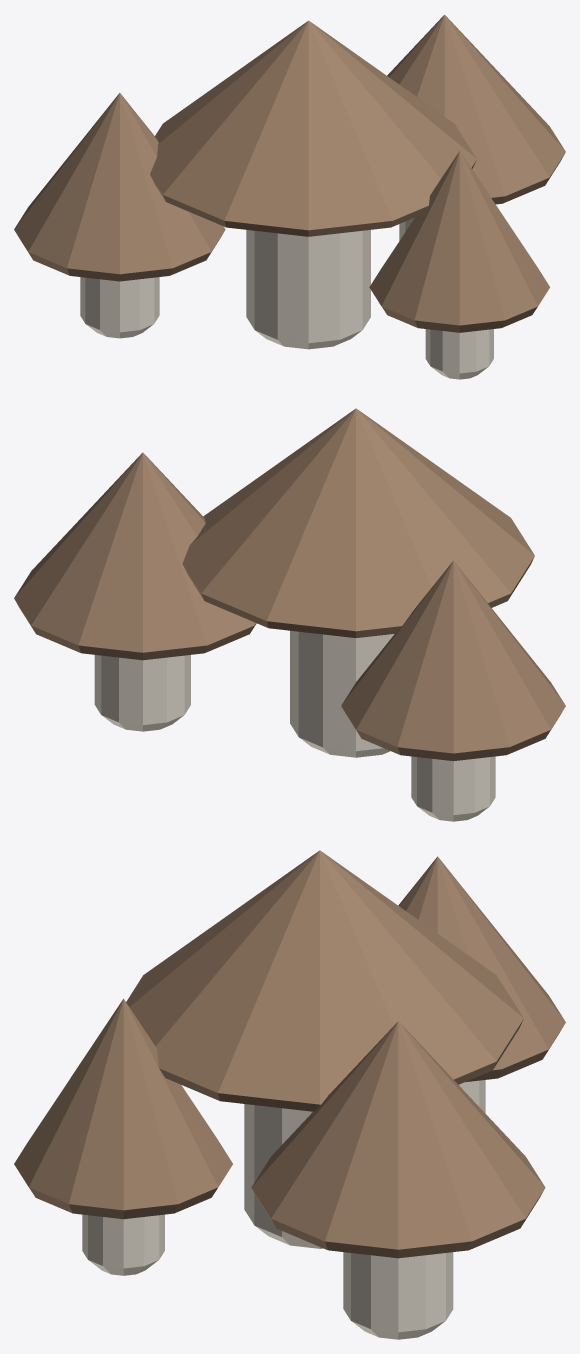
File: SM_Mushroom_02.fbx
The picture shows the model from 3 angles, top to bottom: view 1: azimuth 30°, elevation 25°; view 2: azimuth 150°, elevation 25°; view 3: azimuth 270°, elevation 25°; orthographic projection. The views are drawn at different scales.
Parts seen in each view (by area): view 1: Mushroom_02; view 2: Mushroom_02; view 3: Mushroom_02.
Boxes of the visible parts, bbox=[...] form: Mushroom_02: bbox=[14, 14, 565, 379]; Mushroom_02: bbox=[14, 408, 565, 821]; Mushroom_02: bbox=[14, 850, 565, 1339].
Bounding box in the file's own units: 36.03 × 21 × 28.12.
